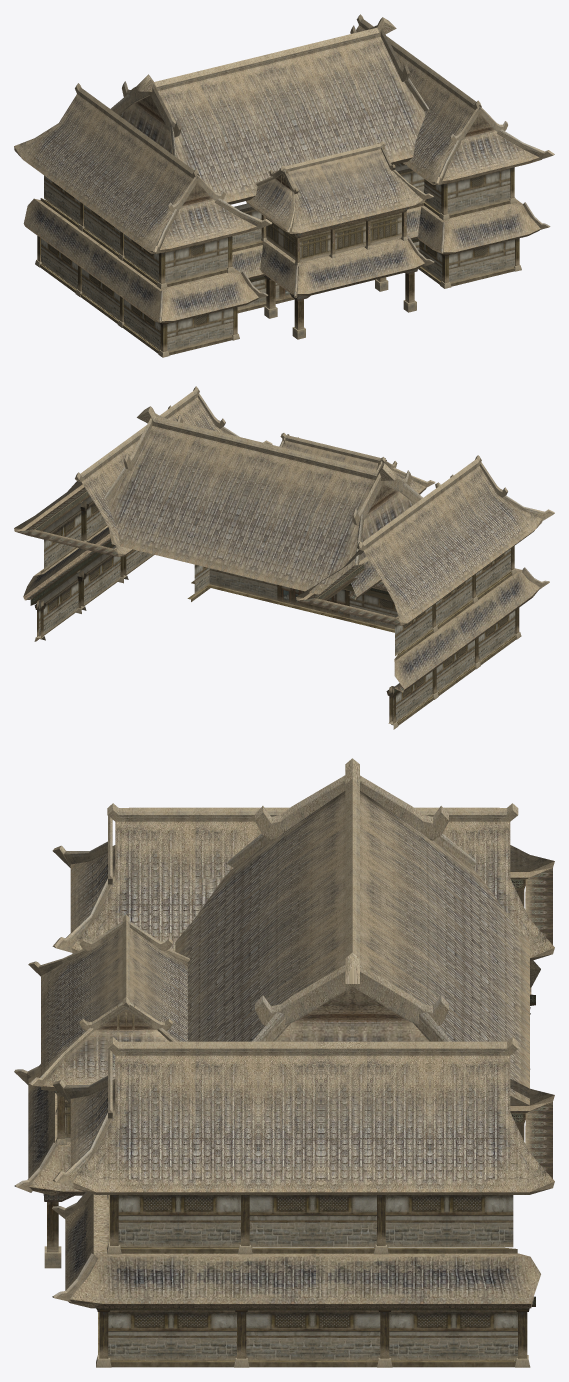
The model's file is desert-006-castle.fbx.
3 views of the same model, one above another, from view 1: azimuth 30°, elevation 25°; view 2: azimuth 150°, elevation 25°; view 3: azimuth 270°, elevation 25° (orthographic). The views are drawn at different scales.
Visible parts, largest first — view 1: desert-006-castle-02, desert-006-castle-04, desert-006-castle-01, desert-006-castle-03, desert-006-castle-05; view 2: desert-006-castle-02, desert-006-castle-04, desert-006-castle-01, desert-006-castle-03; view 3: desert-006-castle-02, desert-006-castle-04, desert-006-castle-01, desert-006-castle-03, desert-006-castle-05.
Part boxes in pixels (x1,y1,x2,y2): desert-006-castle-02: (14,14,541,266); desert-006-castle-04: (35,163,550,357); desert-006-castle-01: (23,198,540,322); desert-006-castle-03: (110,25,554,262); desert-006-castle-05: (264,268,417,339); desert-006-castle-02: (14,386,542,625); desert-006-castle-04: (30,496,549,729); desert-006-castle-01: (23,525,540,692); desert-006-castle-03: (104,393,554,569); desert-006-castle-02: (28,758,554,1194); desert-006-castle-04: (14,890,535,1367); desert-006-castle-01: (28,960,540,1308); desert-006-castle-03: (52,775,476,1186); desert-006-castle-05: (43,1194,74,1268).
Size of the model in its own units: 30.4 by 15.42 by 20.84.
